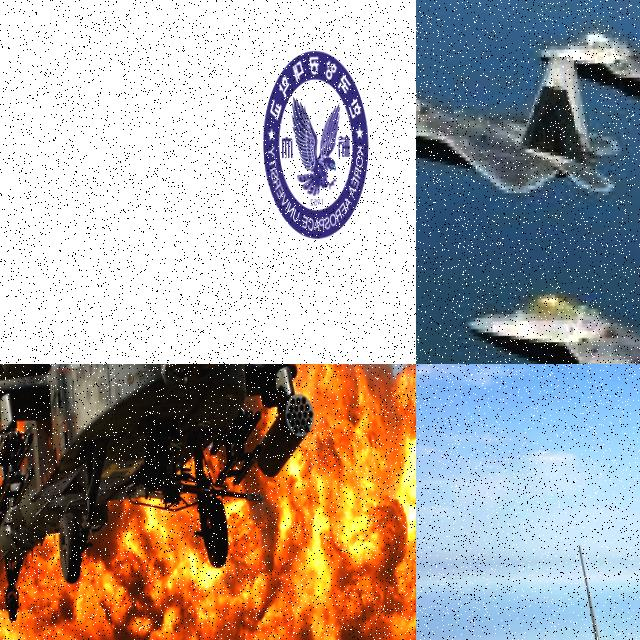Apache: (0, 364, 416, 627)
F22: (416, 56, 621, 200), (466, 245, 640, 364), (449, 547, 640, 640), (534, 0, 640, 122)
KAU_Marker: (260, 46, 368, 237)
